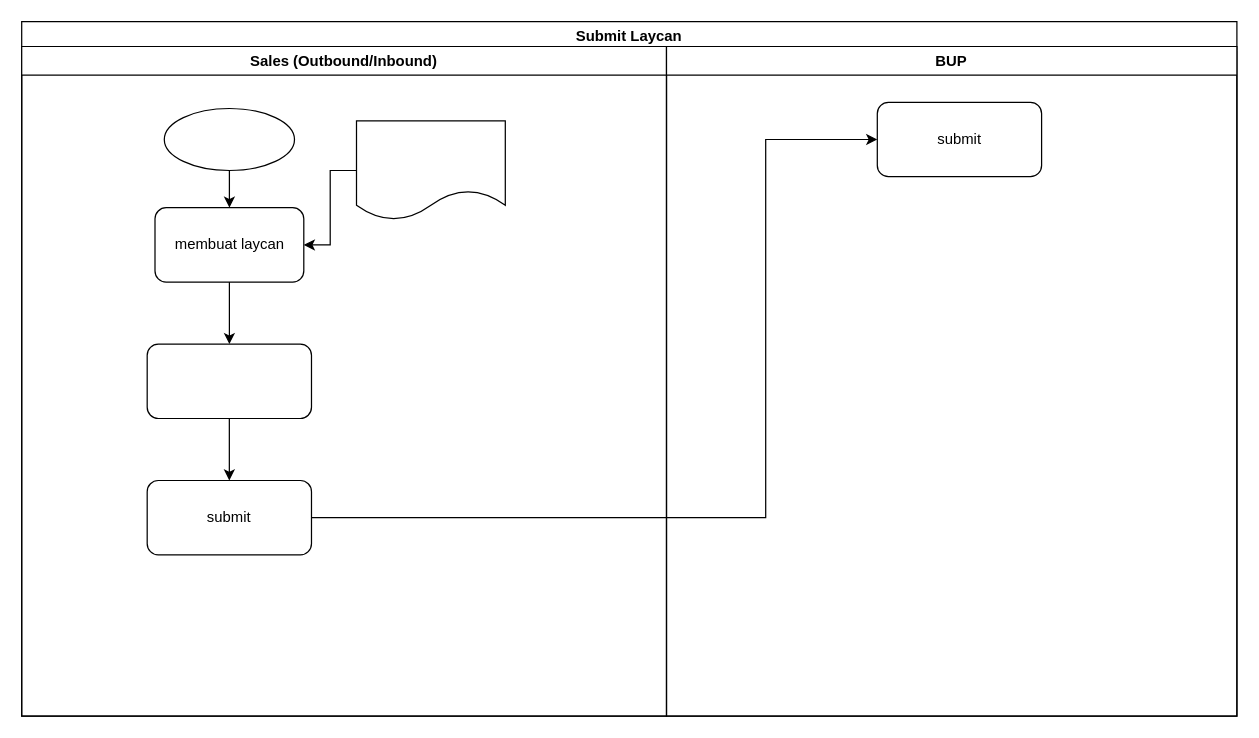
Image size: 1259x738. Some labels were removed from this diagram. The shapes that lost their labels are listed below. From the top down, each one's centre as x and y in pixels, then its label:
At [228,138]: "Start".
At [430,170]: "SO".
At [228,380]: "mengisi cargo, commercial, operations, charterparty details".
